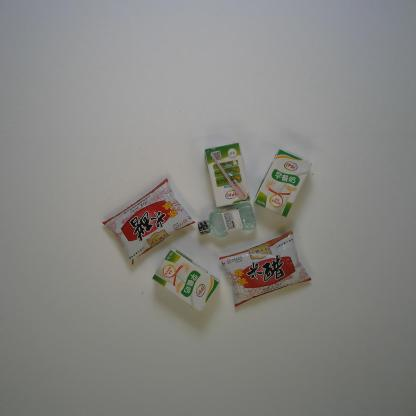Milk: (151, 248, 220, 312), (253, 147, 313, 218), (204, 142, 251, 209)
Personal Hygiene: (197, 202, 258, 238)
Seasoner: (101, 177, 196, 266), (218, 229, 313, 309)
